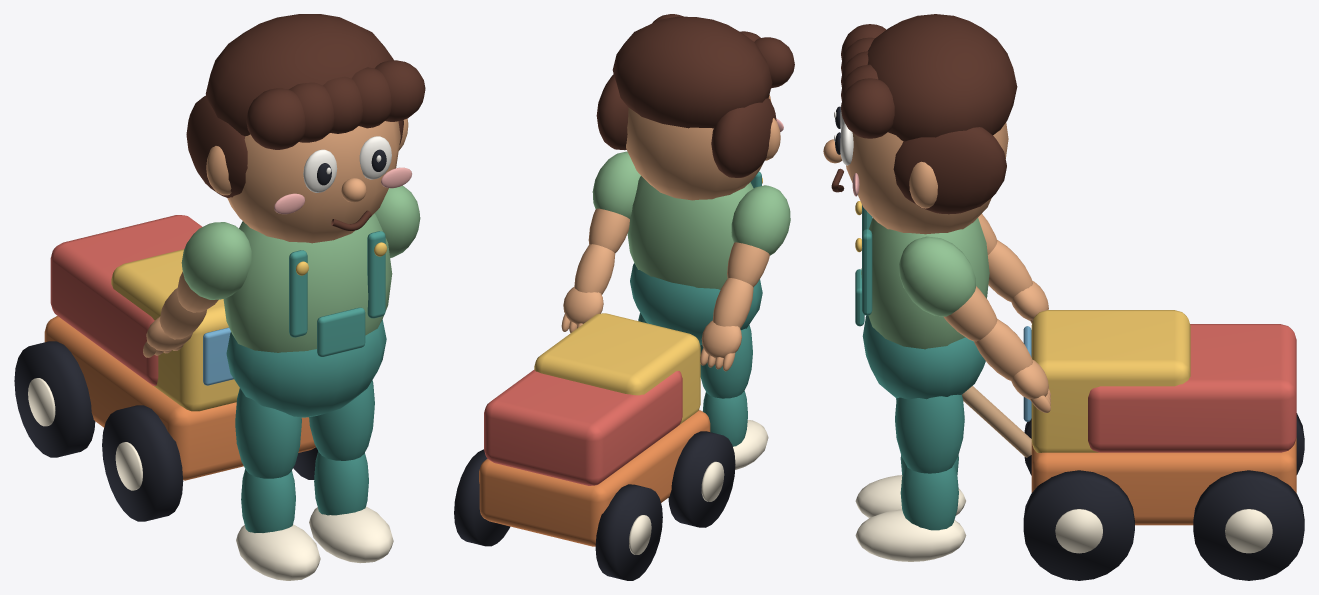
The model's file is daddy-pull.glb.
The picture shows the model from 3 angles, left to right: view 1: azimuth 30°, elevation 25°; view 2: azimuth 150°, elevation 25°; view 3: azimuth 270°, elevation 25°; orthographic projection. The views are drawn at different scales.
Parts seen in each view (by area): view 1: soft shirt, wagon cargo, hair cap, clay head, vehicle body, overalls, cabin, rubber wheel, rubber wheel.001, shirt sleeve, trouser leg, little shoe (+24 smaller); view 2: wagon cargo, hair cap, vehicle body, cabin, soft shirt, clay head, rubber wheel.001, rubber wheel, overalls, bob hair, shirt sleeve, rubber wheel.003 (+14 smaller); view 3: wagon cargo, cabin, hair cap, vehicle body, rubber wheel.002, rubber wheel.003, soft shirt, bob hair.001, overalls, clay head, trouser leg.001, shirt sleeve.001 (+14 smaller).
Part boxes in pixels (bbox=[...]): soft shirt: bbox=[223, 213, 392, 352]; wagon cargo: bbox=[50, 215, 202, 385]; hair cap: bbox=[205, 14, 393, 136]; clay head: bbox=[227, 121, 400, 243]; vehicle body: bbox=[44, 316, 315, 480]; overalls: bbox=[226, 319, 386, 417]; cabin: bbox=[111, 249, 239, 411]; rubber wheel: bbox=[102, 405, 183, 521]; rubber wheel.001: bbox=[14, 341, 95, 457]; shirt sleeve: bbox=[181, 222, 251, 299]; trouser leg: bbox=[235, 388, 301, 478]; little shoe: bbox=[236, 524, 320, 580]; wagon cargo: bbox=[484, 370, 682, 485]; hair cap: bbox=[612, 16, 772, 128]; vehicle body: bbox=[479, 410, 710, 546]; cabin: bbox=[534, 313, 700, 424]; soft shirt: bbox=[627, 176, 753, 289]; clay head: bbox=[626, 95, 771, 200]; rubber wheel.001: bbox=[595, 484, 662, 580]; rubber wheel: bbox=[668, 431, 735, 527]; overalls: bbox=[630, 263, 762, 345]; bob hair: bbox=[711, 98, 776, 177]; shirt sleeve: bbox=[731, 185, 790, 255]; rubber wheel.003: bbox=[454, 449, 510, 546]; wagon cargo: bbox=[1088, 324, 1296, 452]; cabin: bbox=[1031, 310, 1190, 452]; hair cap: bbox=[867, 14, 1017, 141]; vehicle body: bbox=[1031, 438, 1296, 525]; rubber wheel.002: bbox=[1023, 470, 1134, 580]; rubber wheel.003: bbox=[1193, 470, 1304, 580]; soft shirt: bbox=[861, 217, 989, 349]; bob hair.001: bbox=[893, 127, 1006, 214]; overalls: bbox=[862, 315, 985, 399]; clay head: bbox=[846, 122, 1008, 234]; trouser leg.001: bbox=[895, 394, 964, 473]; shirt sleeve.001: bbox=[899, 236, 975, 316].
Size of the model in its own units: 0.957 by 2.14 by 1.82.
